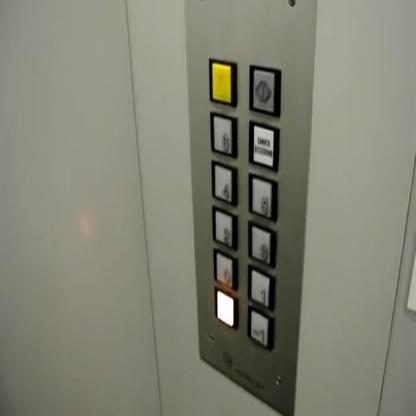-1: (246, 301, 275, 352)
0: (212, 245, 240, 292)
1: (246, 261, 276, 311)
2: (211, 202, 239, 250)
3: (246, 218, 278, 270)
4: (209, 156, 238, 208)
5: (247, 169, 279, 223)
6: (209, 108, 238, 160)
empty: (207, 56, 238, 108), (213, 284, 240, 331)
open: (248, 60, 282, 118)
text: (247, 117, 280, 173)
